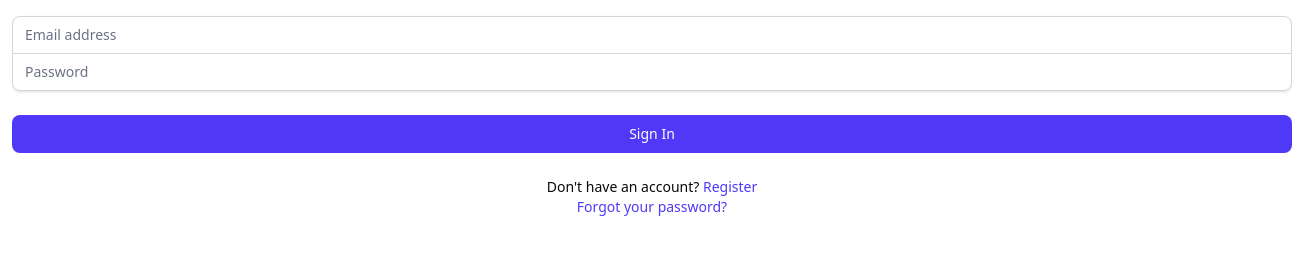
Scenario: LoginForm Component › displays error on login failure
Type "wrong@example.com" into the field with placeholder "Email address". click: (652, 35)
box: [12,16,1292,54]
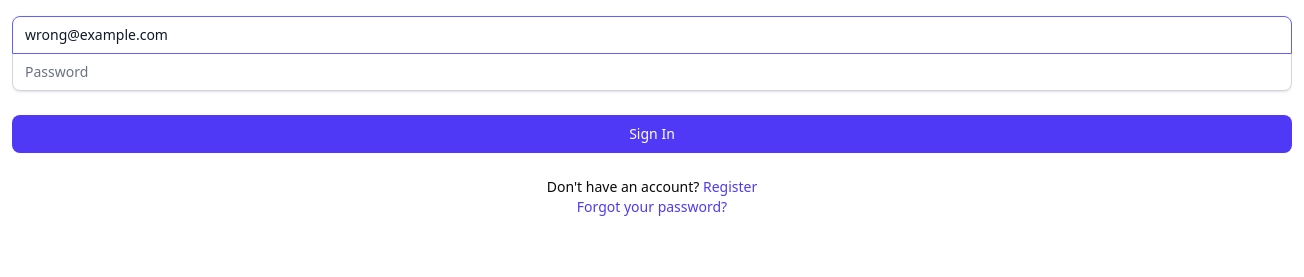
Type "wrongpass" into the password field with placeholder "Password". click: (652, 72)
box: [12,53,1292,91]
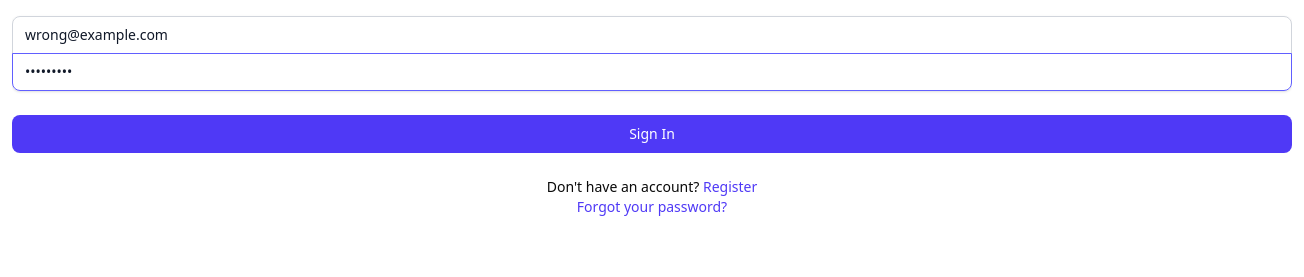
Click the button "Sign In". click: (652, 134)
box: [12,115,1292,153]
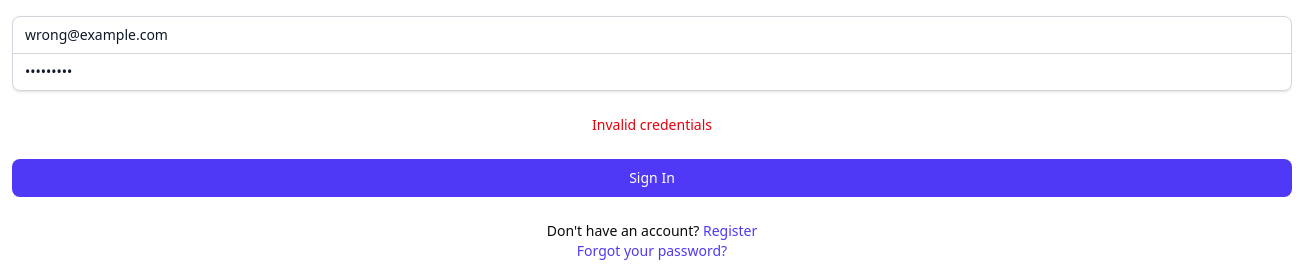
Expected: the text "Invalid credentials" is shown, [592,115,712,134]
